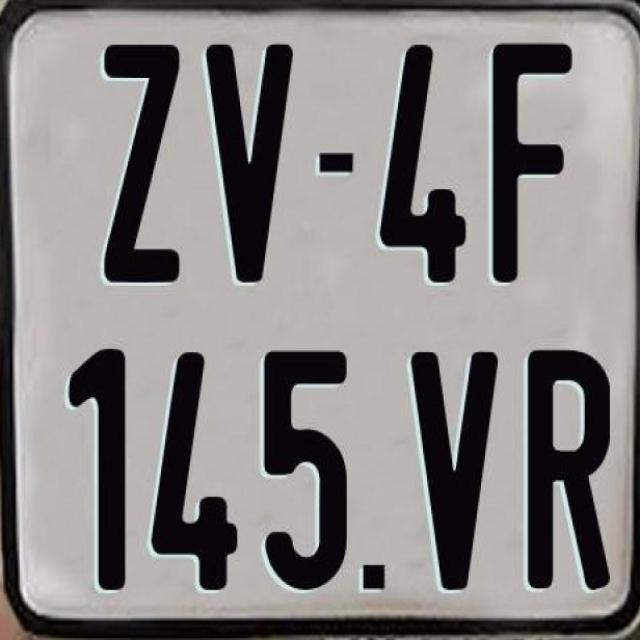license-plate: (12, 0, 629, 605)
